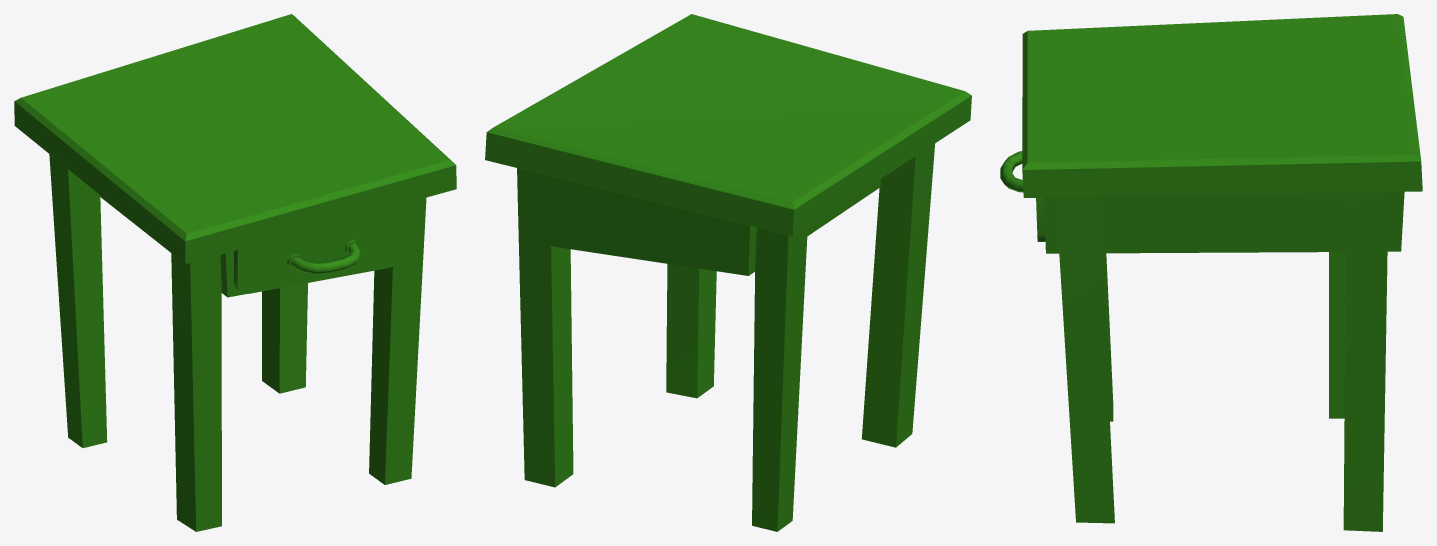
Rendered from Bedtable.FBX.
3 views of the same model, side by side, from view 1: azimuth 30°, elevation 25°; view 2: azimuth 150°, elevation 25°; view 3: azimuth 270°, elevation 25° (orthographic). The views are drawn at different scales.
Parts seen in each view (by area): view 1: BedTable; view 2: BedTable; view 3: BedTable.
Boxes of the visible parts, x1,y1,x2,y2 form: BedTable: [14, 14, 456, 531]; BedTable: [485, 14, 971, 531]; BedTable: [1000, 14, 1422, 531].
Size of the model in its own units: 62.99 by 72.23 by 71.77.
